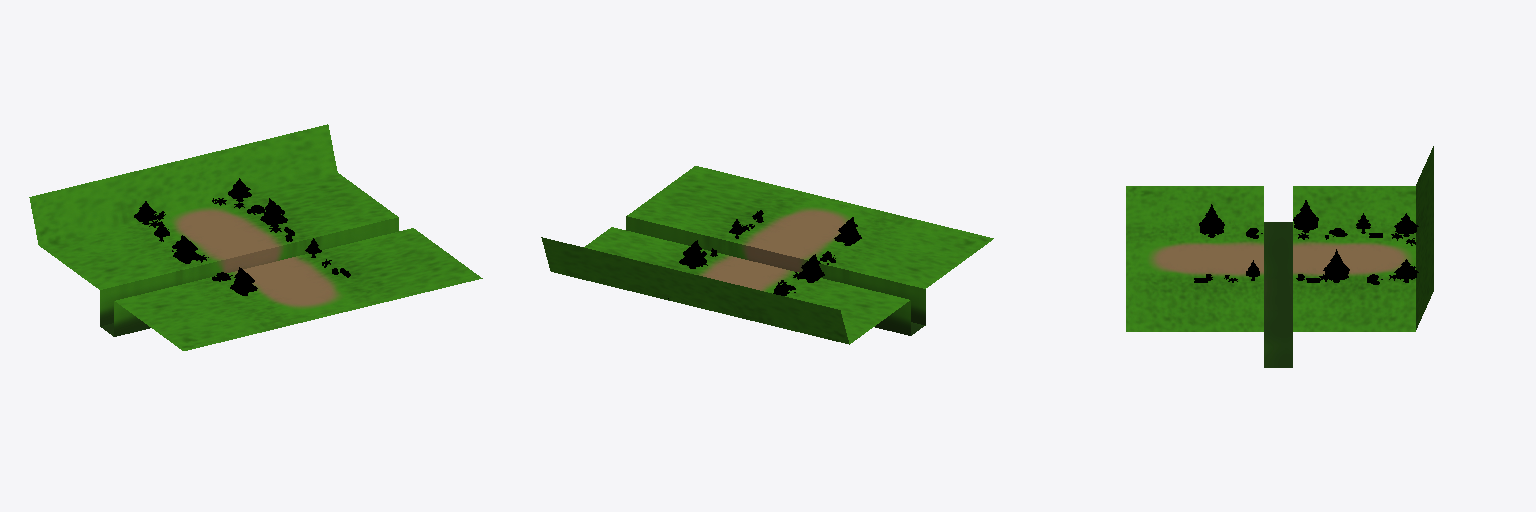
3 views of the same model, side by side, from view 1: azimuth 30°, elevation 25°; view 2: azimuth 150°, elevation 25°; view 3: azimuth 270°, elevation 25° (orthographic).
Visible parts, largest first — view 1: escenario_bosque suelo_bosque; view 2: escenario_bosque suelo_bosque; view 3: escenario_bosque suelo_bosque.
Part boxes in pixels (bbox=[...]): escenario_bosque suelo_bosque: bbox=[29, 124, 482, 350]; escenario_bosque suelo_bosque: bbox=[541, 166, 993, 344]; escenario_bosque suelo_bosque: bbox=[1126, 146, 1433, 367].
Bounding box in the file's own units: 1652 × 410 × 1476.
Materials: 2 (1 with a texture image).